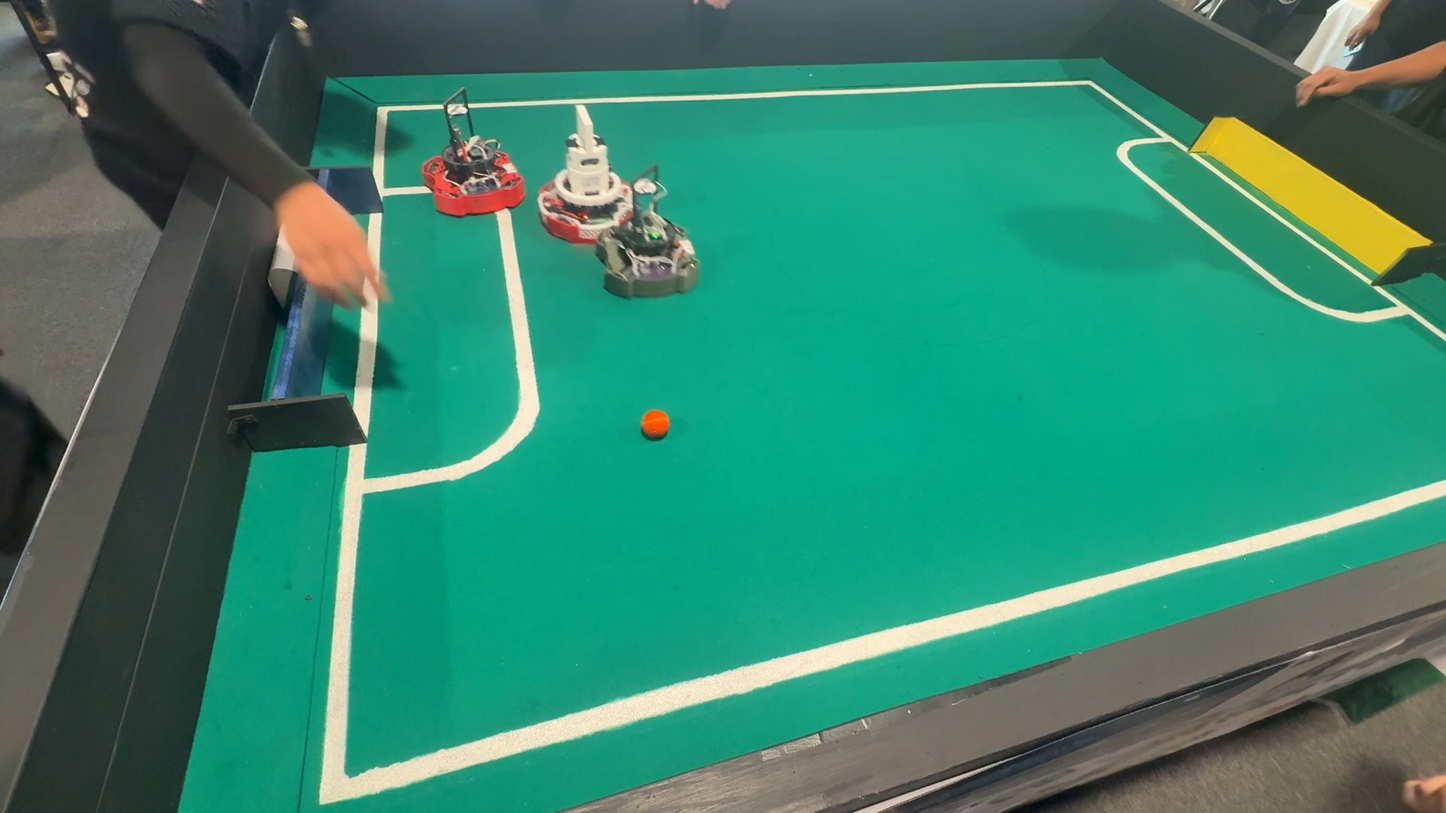Robot: (596, 184, 706, 316), (541, 115, 644, 247), (424, 107, 530, 217)
pelota: (637, 408, 673, 444)
